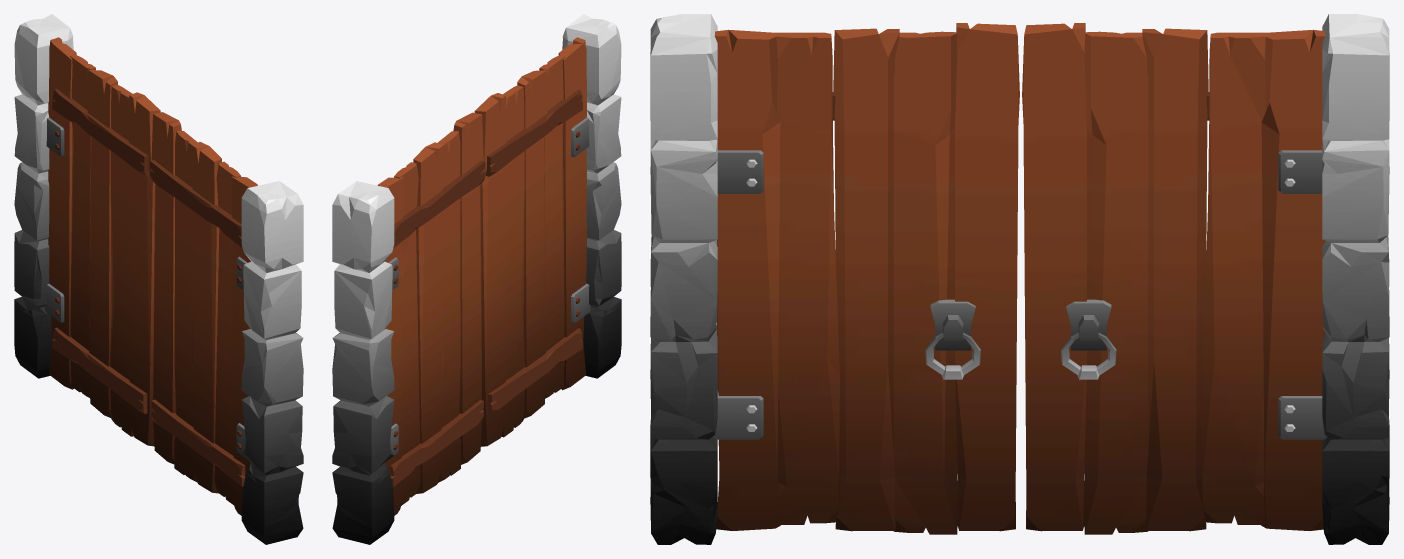
Rendered from mumen.fbx.
3 views of the same model, side by side, from view 1: azimuth 30°, elevation 25°; view 2: azimuth 150°, elevation 25°; view 3: azimuth 270°, elevation 25° (orthographic). The views are drawn at different scales.
Parts seen in each view (by area): view 1: polySurface3232, SM_Env_Pillar_Square_07, polySurface3231; view 2: polySurface3231, SM_Env_Pillar_Square_07, polySurface3232; view 3: polySurface3231, polySurface3232, SM_Env_Pillar_Square_07.
Part boxes in pixels (x1=…): polySurface3232: x1=44, y1=37, x2=160, y2=446; SM_Env_Pillar_Square_07: x1=14, y1=14, x2=303, y2=544; polySurface3231: x1=150, y1=112, x2=257, y2=515; polySurface3231: x1=474, y1=37, x2=590, y2=446; SM_Env_Pillar_Square_07: x1=332, y1=14, x2=621, y2=544; polySurface3232: x1=377, y1=112, x2=485, y2=515; polySurface3231: x1=713, y1=23, x2=1019, y2=534; polySurface3232: x1=1022, y1=23, x2=1327, y2=534; SM_Env_Pillar_Square_07: x1=650, y1=14, x2=1389, y2=544.
Size of the model in its own units: 94.93 by 790 by 1042.
